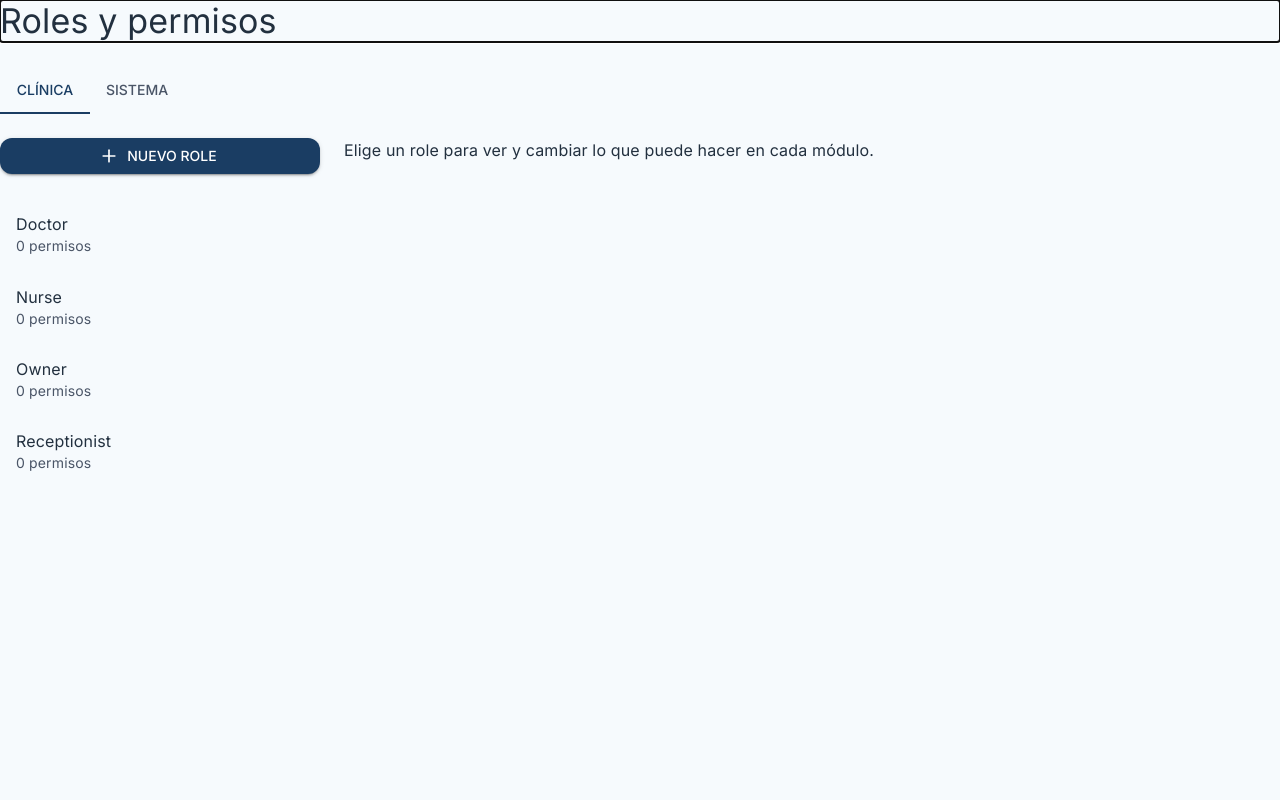
Test case: RolesPage › creating a role (US2, T077) › Cancelar closes the dialog without creating anything
This screenshot has width=1280, height=800.
Click the button "Nuevo role": (160, 156) top-left (0, 138), bottom-right (320, 174)
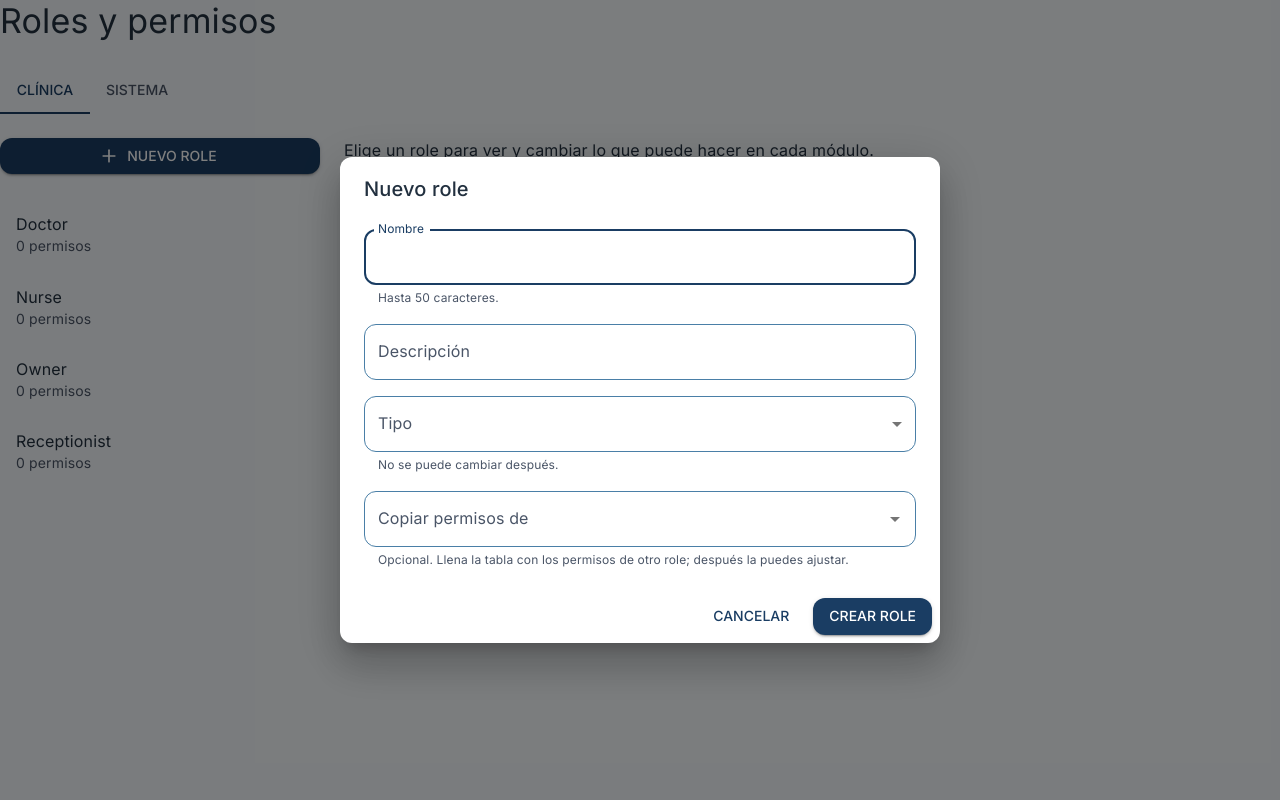
Click the button "Cancelar": (751, 616) top-left (705, 598), bottom-right (797, 635)
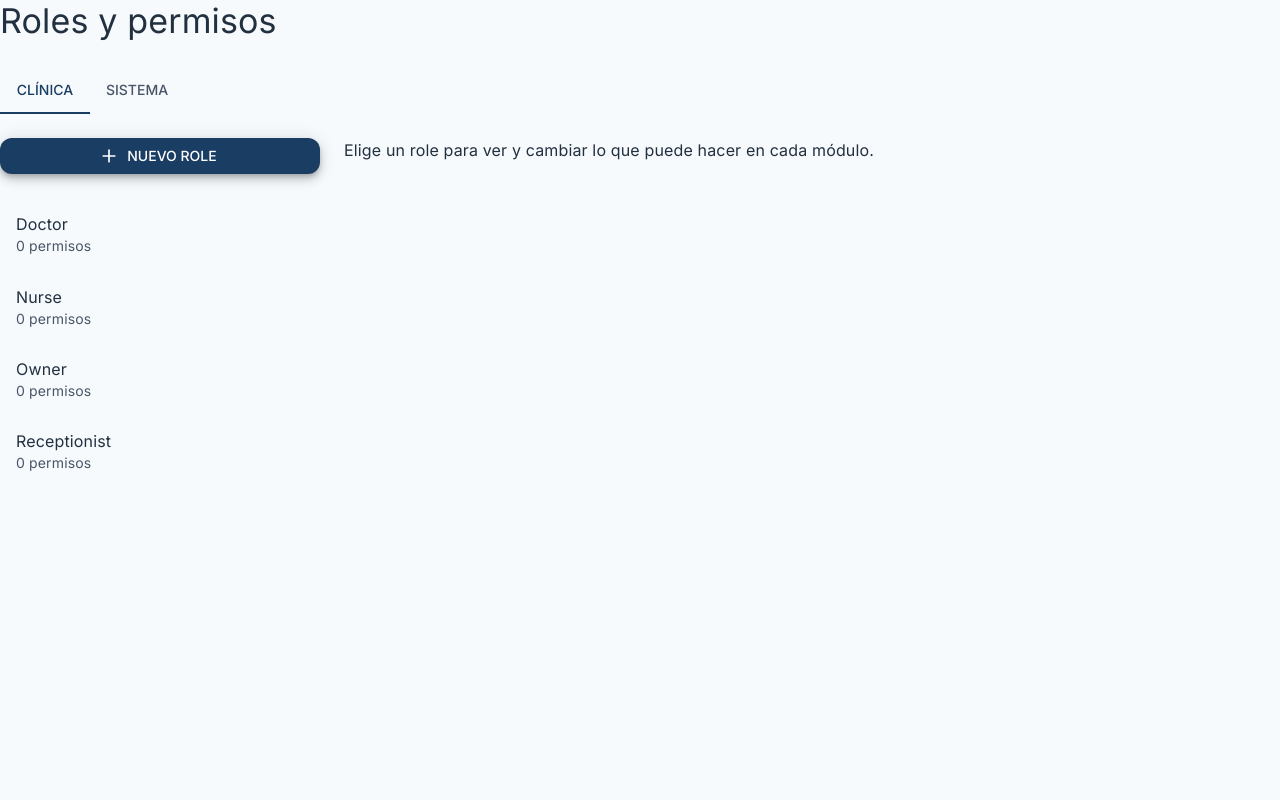
Result: the dialog is gone
